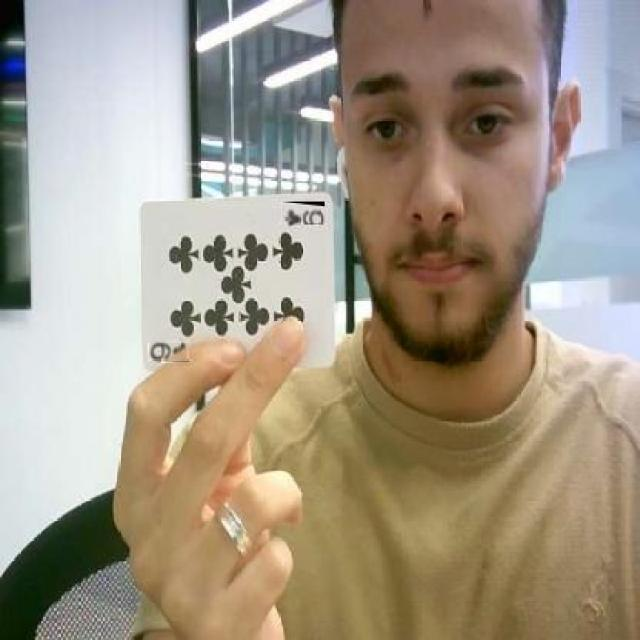9C: (280, 202, 325, 224), (149, 341, 189, 362)
